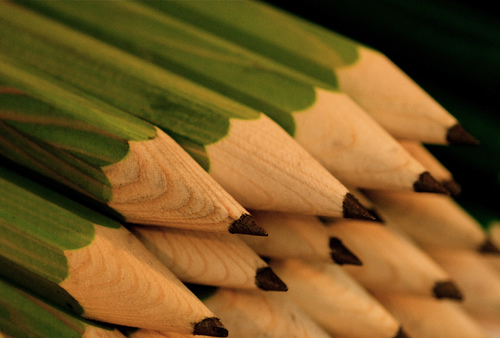pen_tip: (71, 112, 268, 247)
